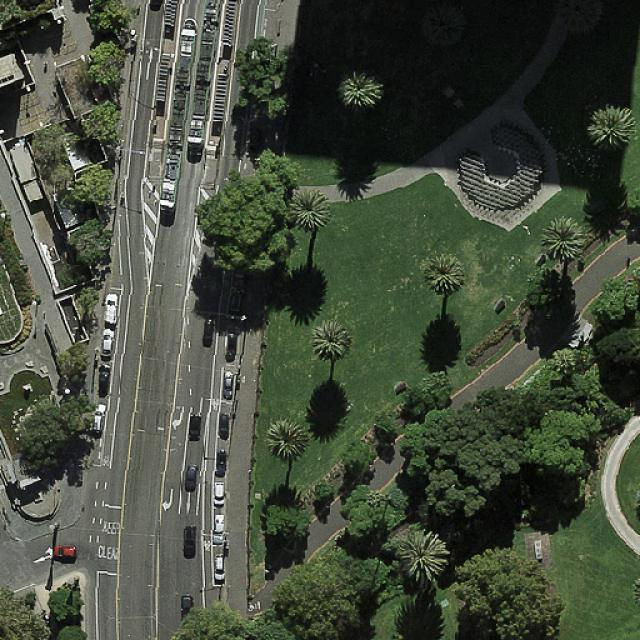Bike-Symbols: (102, 454, 111, 468), (211, 399, 221, 410), (203, 540, 213, 551), (223, 278, 232, 286)
